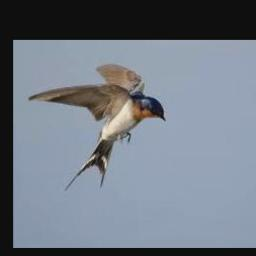Swallow: (27, 63, 165, 192)
